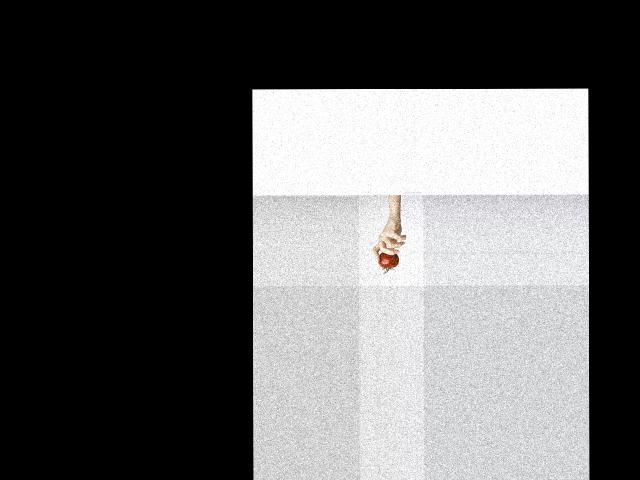tomato: (378, 252, 399, 274)
